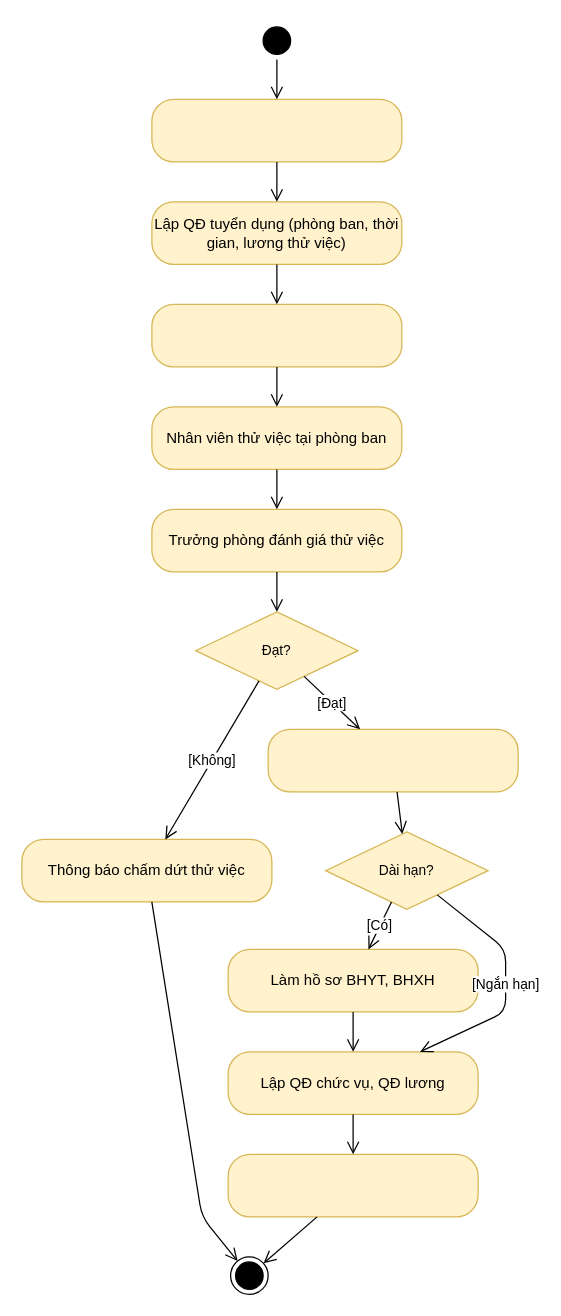
The diagram is 561 pixels wide and 1316 high, and some of its shapes have lost their labels. The box of each missing label's shape, as (x1, y1, x2, y2) in pixels:
Chọn loại hợp đồng, ký hợp đồng: (267, 728, 518, 792)
Cập nhật trạng thái chính thức: (227, 1153, 478, 1217)
Giám đốc ký QĐ: (151, 303, 402, 367)
Nhận hồ sơ ứng viên trúng tuyển: (151, 98, 402, 162)
